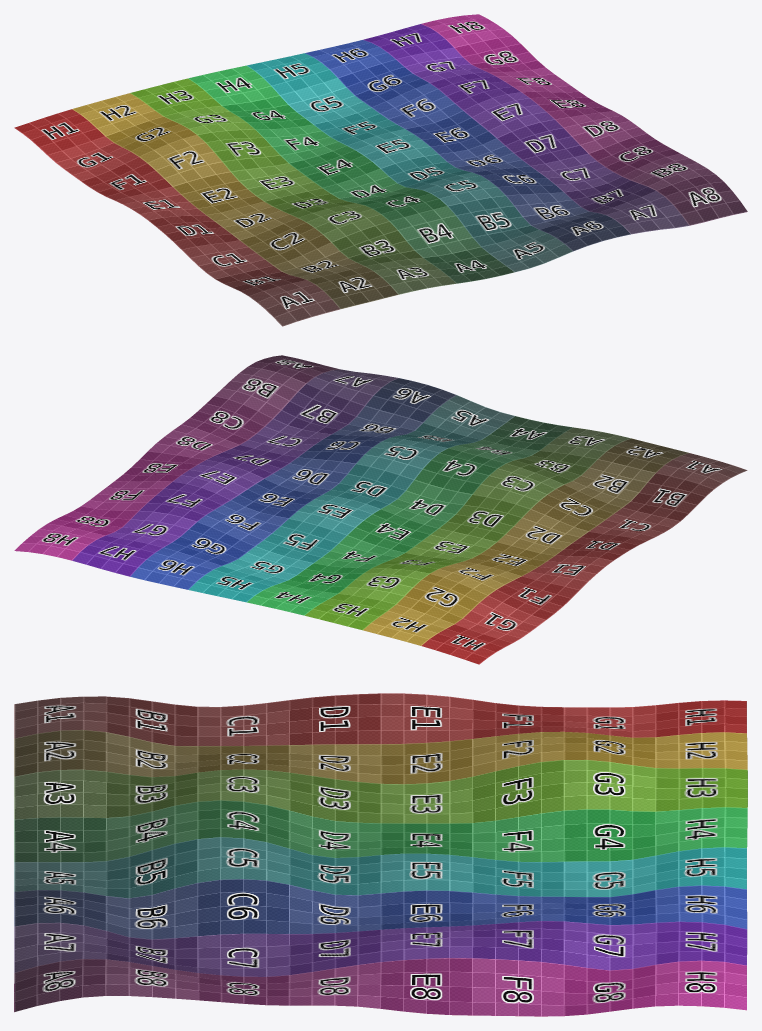
3 renders of one model, top to bottom at view 1: azimuth 30°, elevation 25°; view 2: azimuth 150°, elevation 25°; view 3: azimuth 270°, elevation 25°, orthographic. The views are drawn at different scales.
Visible parts, largest first — view 1: Plane; view 2: Plane; view 3: Plane.
Part boxes in pixels (bbox=[...]): Plane: bbox=[14, 14, 747, 326]; Plane: bbox=[14, 355, 747, 664]; Plane: bbox=[14, 693, 747, 1016].
Bounding box in the file's own units: 60.25 × 2.28 × 60.13.
1 material, 1 textured.
